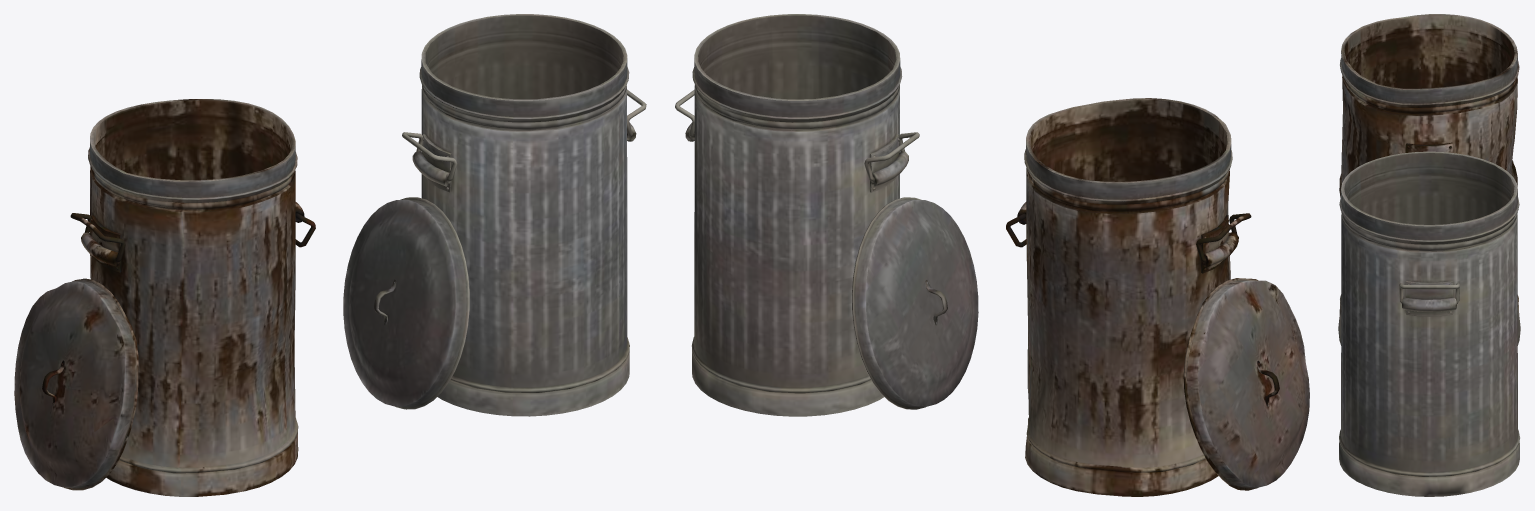
Rendered from bin.glb.
3 renders of one model, left to right at view 1: azimuth 30°, elevation 25°; view 2: azimuth 150°, elevation 25°; view 3: azimuth 270°, elevation 25°, orthographic. The views are drawn at different scales.
Parts seen in each view (by area): view 1: metal_trash_can, metal_trash_can_rust, metal_trash_can_lid, metal_trash_can_rust_lid; view 2: metal_trash_can, metal_trash_can_rust, metal_trash_can_lid, metal_trash_can_rust_lid; view 3: metal_trash_can, metal_trash_can_rust, metal_trash_can_handle_right.
Boxes of the visible parts, left/top/right/bottom form: metal_trash_can: left=412, top=14, right=636, bottom=416; metal_trash_can_rust: left=81, top=99, right=304, bottom=496; metal_trash_can_lid: left=343, top=197, right=469, bottom=409; metal_trash_can_rust_lid: left=14, top=278, right=138, bottom=490; metal_trash_can: left=685, top=14, right=908, bottom=416; metal_trash_can_rust: left=1017, top=98, right=1238, bottom=496; metal_trash_can_lid: left=852, top=197, right=978, bottom=409; metal_trash_can_rust_lid: left=1183, top=278, right=1309, bottom=490; metal_trash_can: left=1339, top=151, right=1519, bottom=496; metal_trash_can_rust: left=1339, top=14, right=1519, bottom=315; metal_trash_can_handle_right: left=1399, top=283, right=1459, bottom=303.
Bounding box in the file's own units: 1.78 × 0.9062 × 0.5554.
2 materials, 2 textured.
